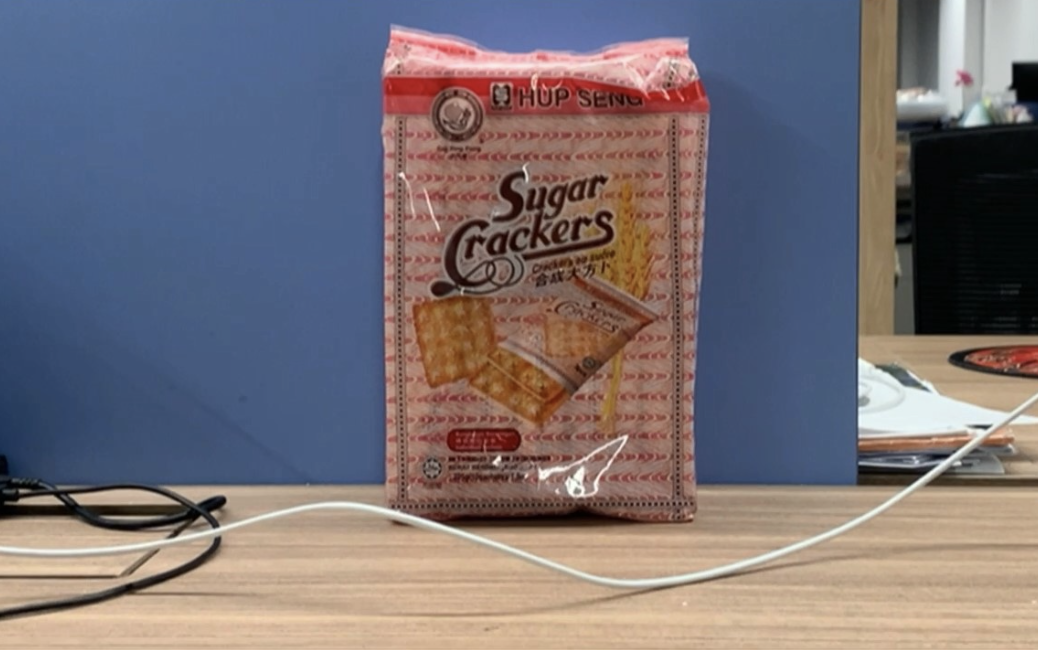crackers_200g-299g: (408, 71, 679, 495)
